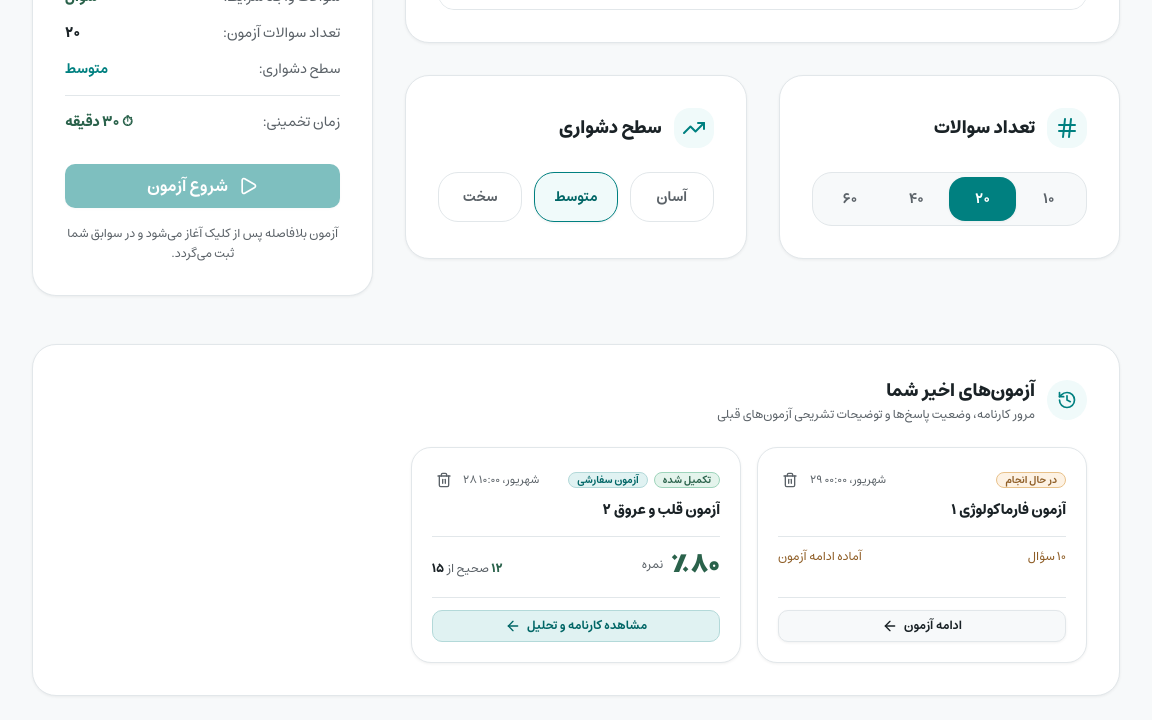
Test case: ExamConfigView Recent Exams Removal UI › opens delete confirmation modal when delete button is clicked and closes on cancel
(page scrolled)
Note: Click delete button on attempt 1
Click the button with test id "delete-attempt-att-1" at (790, 480), box [778,468,802,492]
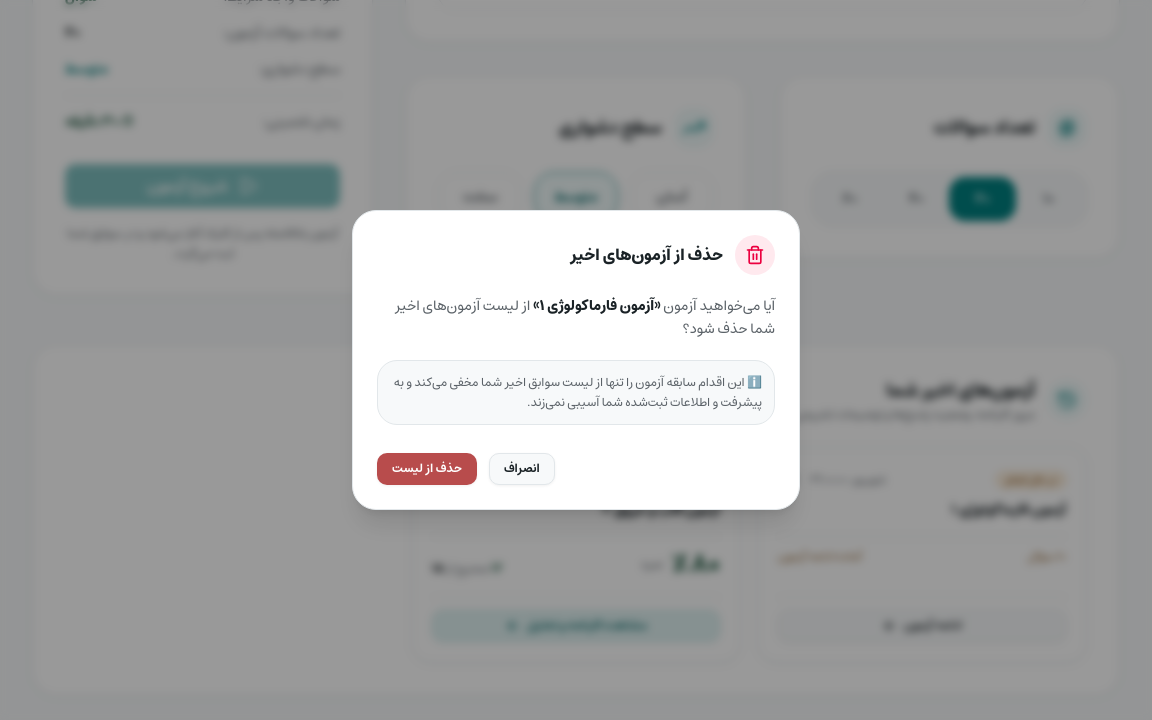
Expected: the dialog is shown
Expected: the heading "حذف از آزمون‌های اخیر" is shown, [570,243,723,267]
Expected: the text "آیا می‌خواهید آزمون" is shown, [661,294,775,318]
Note: Click cancel button
Click the button "انصراف" at (522, 469), box [489,453,555,485]
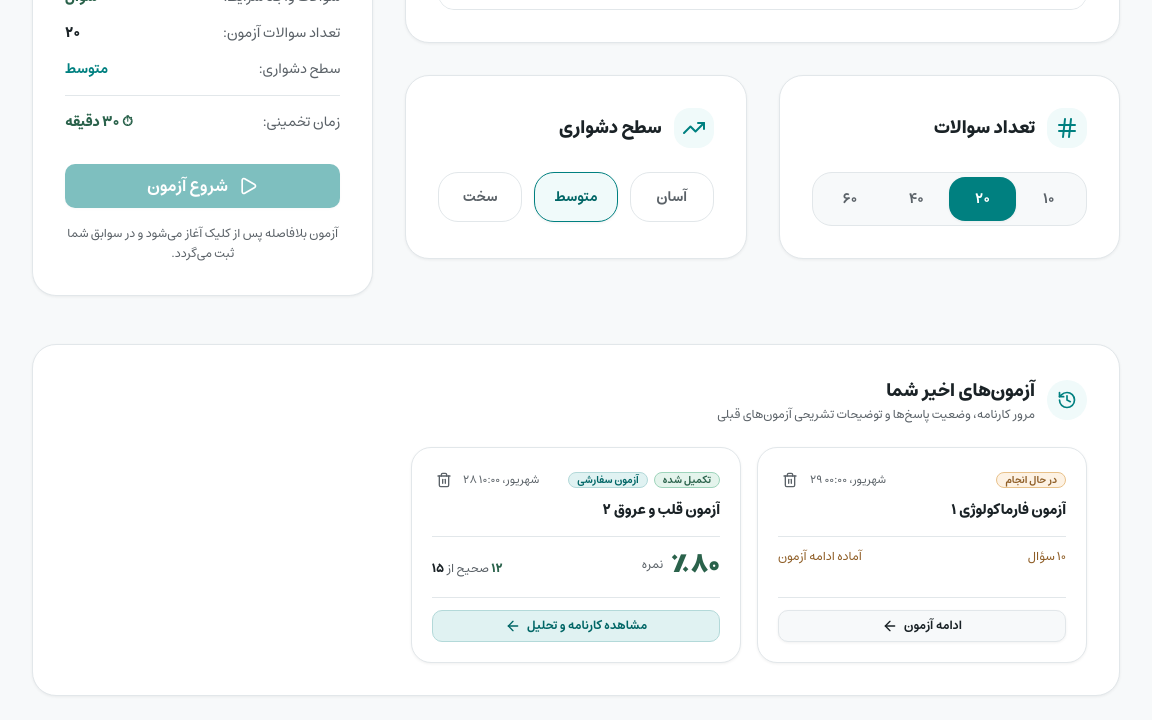
Expected: the heading "آزمون فارماکولوژی ۱" is shown, [951,498,1066,522]
Expected: the dialog is gone
